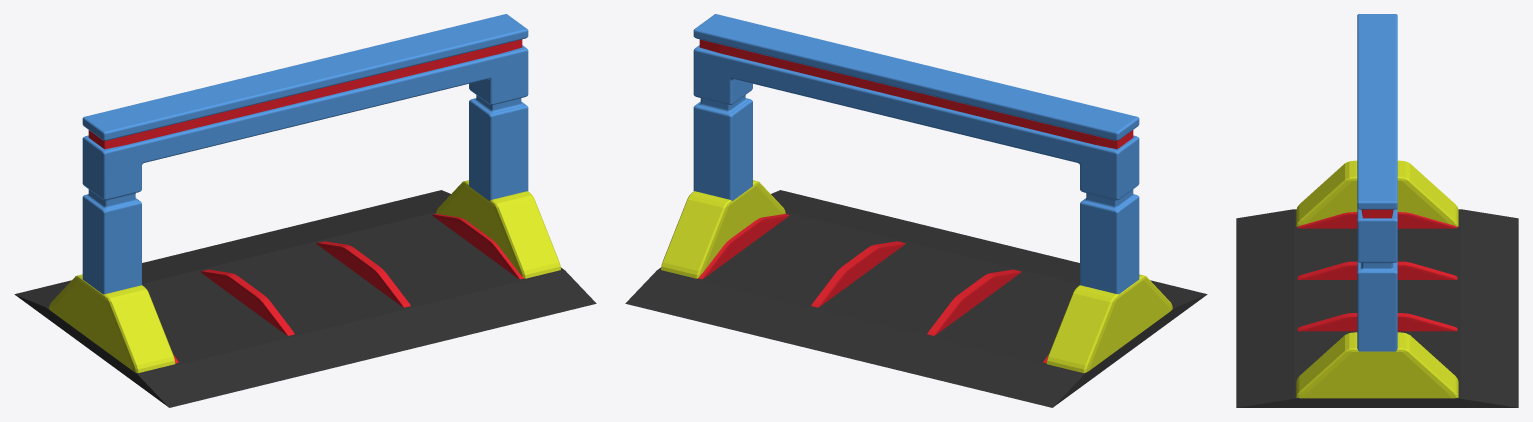
File: loading overhead.fbx
3 views of the same model, side by side, from view 1: azimuth 30°, elevation 25°; view 2: azimuth 150°, elevation 25°; view 3: azimuth 270°, elevation 25° (orthographic). The views are drawn at different scales.
Visible parts, largest first — view 1: base, overhead, side piece.001, side piece, Cube, rail.001, rail, rail.002; view 2: base, overhead, side piece.001, side piece, Cube, rail.001, rail, rail.002; view 3: base, overhead, side piece, side piece.001, rail, rail.001, rail.003, Cube.
Boxes of the visible parts, x1,y1,x2,y2 form: base: (14,190,596,407); overhead: (82,14,528,294); side piece.001: (49,274,175,372); side piece: (436,180,560,278); Cube: (88,39,522,149); rail.001: (200,269,294,335); rail: (316,241,410,307); rail.002: (432,214,523,279); base: (625,190,1207,407); overhead: (693,14,1139,294); side piece.001: (1046,274,1172,372); side piece: (661,180,785,278); Cube: (699,39,1133,149); rail.001: (927,269,1021,335); rail: (811,241,905,307); rail.002: (698,214,789,279); base: (1236,209,1518,407); overhead: (1357,14,1397,351); side piece: (1296,332,1458,398); side piece.001: (1296,160,1458,226); rail: (1297,313,1457,331); rail.001: (1297,261,1457,279); rail.003: (1297,212,1457,228); Cube: (1361,209,1393,218).
Bounding box in the file's own units: 2211 × 1118 × 1392.
